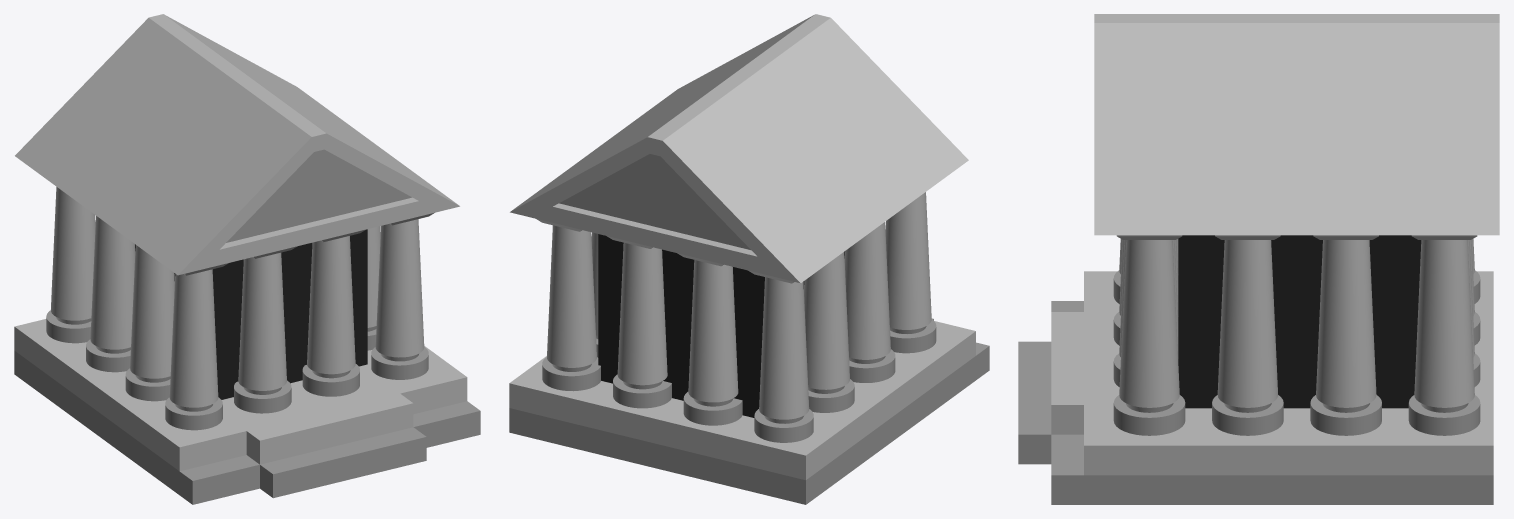
The model's file is classical_building.gltf.
3 views of the same model, side by side, from view 1: azimuth 30°, elevation 25°; view 2: azimuth 150°, elevation 25°; view 3: azimuth 270°, elevation 25° (orthographic). The views are drawn at different scales.
Visible parts, largest first — view 1: Cube.470; view 2: Cube.470; view 3: Cube.470.
Part boxes in pixels (x1,y1,x2,y2): Cube.470: [14, 14, 480, 504]; Cube.470: [509, 14, 989, 504]; Cube.470: [1018, 14, 1499, 504].
Bounding box in the file's own units: 1.94 × 2.07 × 2.27.
1 material, 1 textured.
